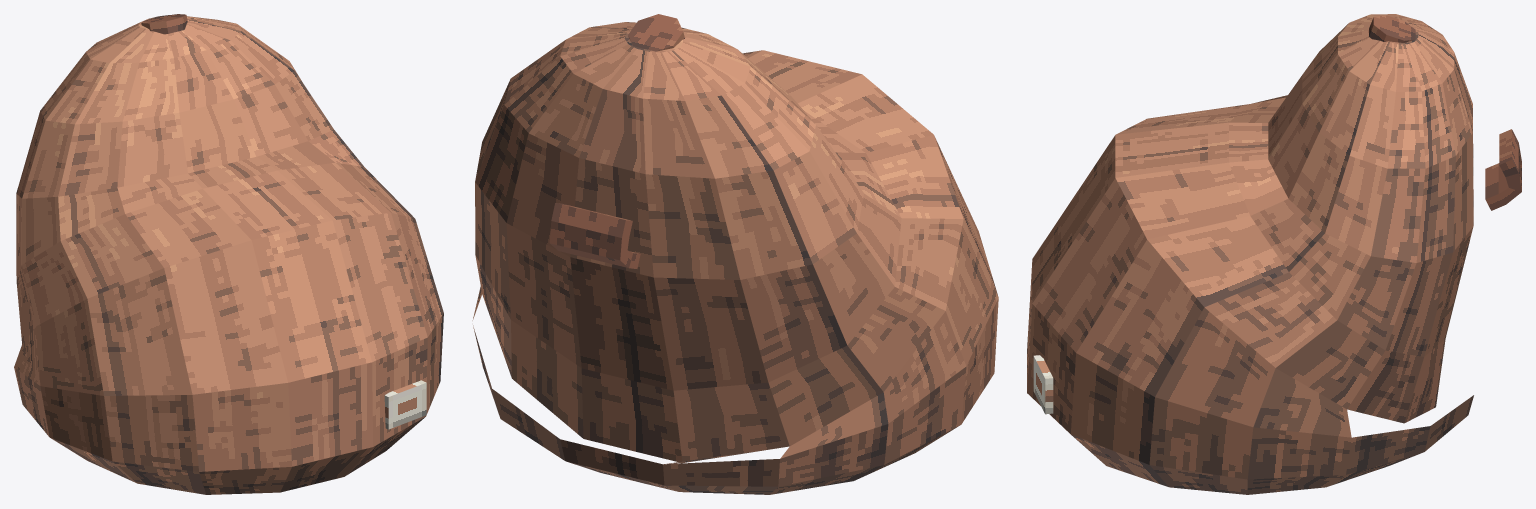
Rendered from beanbag.glb.
The picture shows the model from 3 angles, left to right: view 1: azimuth 30°, elevation 25°; view 2: azimuth 150°, elevation 25°; view 3: azimuth 270°, elevation 25°; orthographic projection. The views are drawn at different scales.
Parts seen in each view (by area): view 1: bag, tag, button; view 2: bag, handle, button; view 3: bag, handle, button, tag.
Part boxes in pixels (x1,y1,x2,y2): bag: [14, 15, 443, 494]; tag: [384, 380, 426, 429]; button: [141, 14, 187, 34]; bag: [472, 22, 998, 494]; handle: [549, 203, 640, 268]; button: [628, 14, 684, 51]; bag: [1027, 14, 1473, 494]; handle: [1485, 129, 1521, 210]; button: [1369, 15, 1415, 42]; tag: [1033, 355, 1053, 414].
Bounding box in the file's own units: 1.06 × 0.9793 × 1.11.
Materials: 1 (1 with a texture image).
